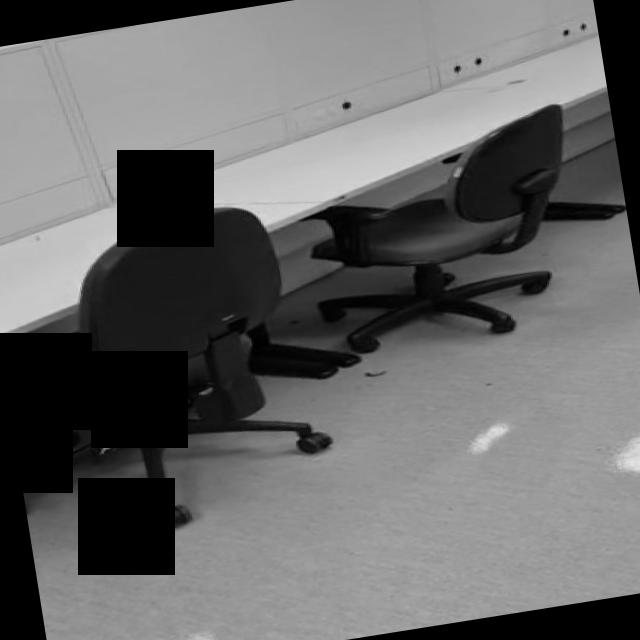cadeira-azul: (0, 194, 339, 549)
